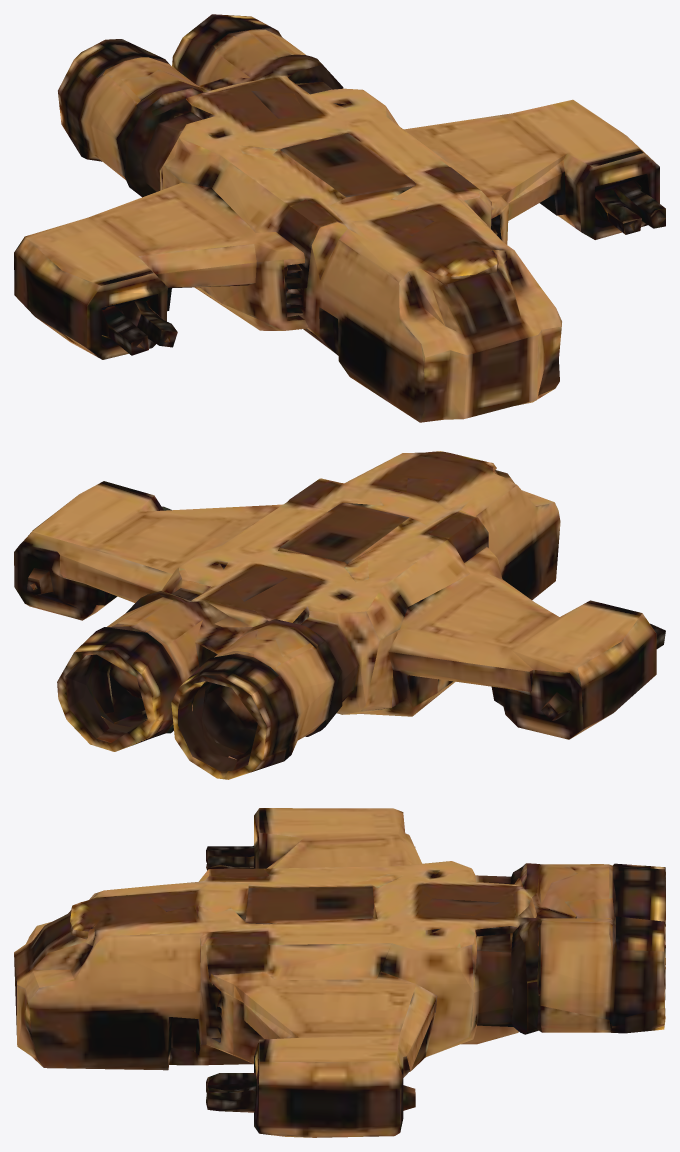
Rendered from enemy-heavy-s4.glb.
The picture shows the model from 3 angles, top to bottom: view 1: azimuth 30°, elevation 25°; view 2: azimuth 150°, elevation 25°; view 3: azimuth 270°, elevation 25°; orthographic projection. The views are drawn at different scales.
Visible parts, largest first — view 1: 9adbb147-c497-479b-8c6b-6f7a91005b4a_texturing.obj; view 2: 9adbb147-c497-479b-8c6b-6f7a91005b4a_texturing.obj; view 3: 9adbb147-c497-479b-8c6b-6f7a91005b4a_texturing.obj.
Boxes of the visible parts, x1,y1,x2,y2 form: 9adbb147-c497-479b-8c6b-6f7a91005b4a_texturing.obj: (14,14,665,422); 9adbb147-c497-479b-8c6b-6f7a91005b4a_texturing.obj: (14,451,665,779); 9adbb147-c497-479b-8c6b-6f7a91005b4a_texturing.obj: (14,808,665,1137).
Bounding box in the file's own units: 1.99 × 0.486 × 1.99.
Materials: 1 (1 with a texture image).
